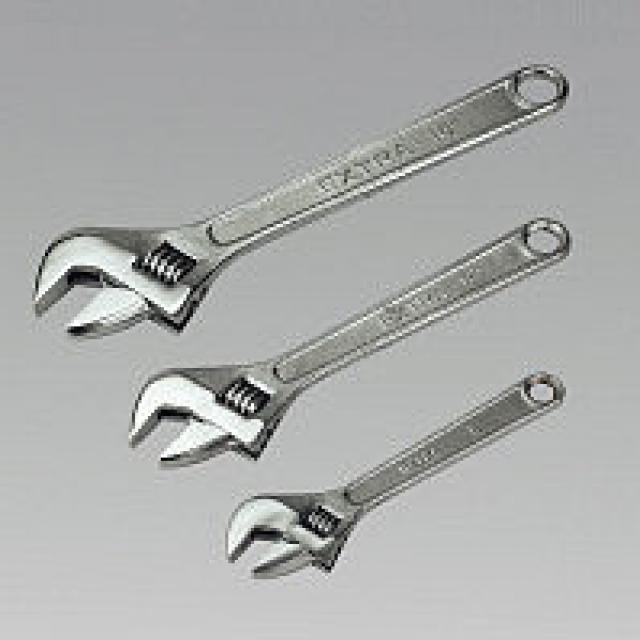wrench: (24, 58, 574, 350), (116, 212, 574, 476), (216, 367, 570, 588)
